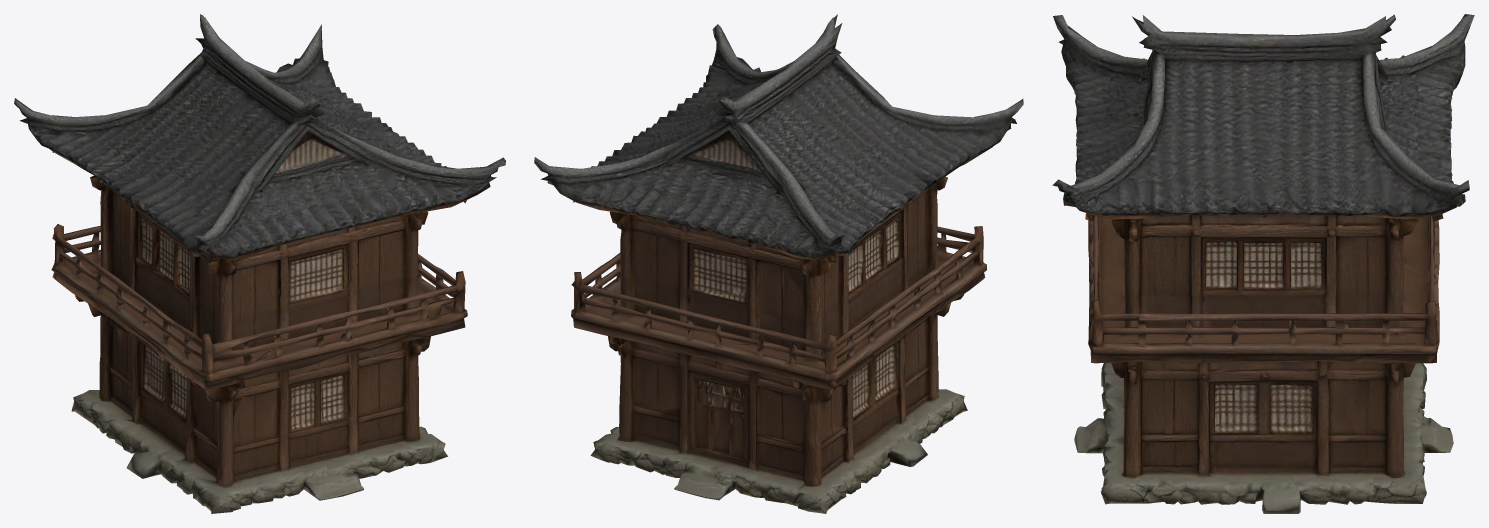
The model's file is v-house2.glb.
3 views of the same model, side by side, from view 1: azimuth 30°, elevation 25°; view 2: azimuth 150°, elevation 25°; view 3: azimuth 270°, elevation 25° (orthographic). The views are drawn at different scales.
Parts seen in each view (by area): view 1: tripo_node_907ab37c-ea58-4d4b-b182-6e38d8d46c9c; view 2: tripo_node_907ab37c-ea58-4d4b-b182-6e38d8d46c9c; view 3: tripo_node_907ab37c-ea58-4d4b-b182-6e38d8d46c9c.
Boxes of the visible parts, bbox=[...] form: tripo_node_907ab37c-ea58-4d4b-b182-6e38d8d46c9c: bbox=[14, 14, 505, 513]; tripo_node_907ab37c-ea58-4d4b-b182-6e38d8d46c9c: bbox=[534, 14, 1023, 513]; tripo_node_907ab37c-ea58-4d4b-b182-6e38d8d46c9c: bbox=[1052, 14, 1474, 513].
Bounding box in the file's own units: 0.8632 × 1 × 0.8984.
Materials: 1 (1 with a texture image).
